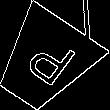P_SW: (14, 30, 76, 93)
